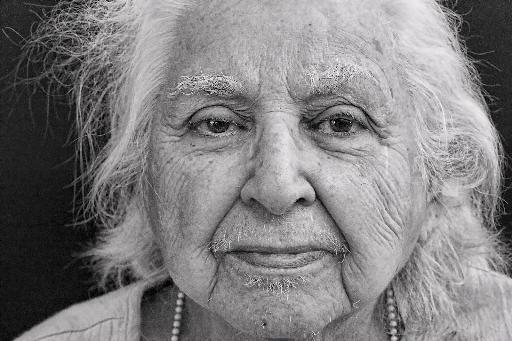left_eye: (307, 115, 375, 142)
left_lip_corner: (319, 245, 348, 262)
right_eye: (188, 116, 250, 140)
right_lip_corner: (218, 245, 249, 262)
